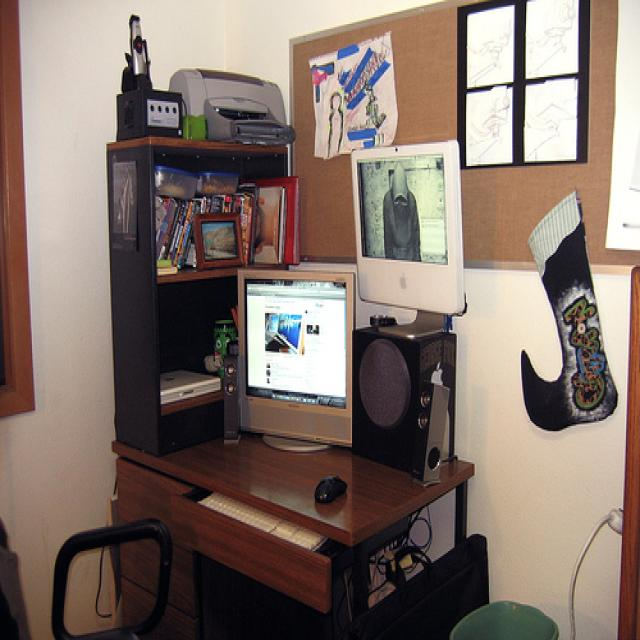tvmonitor: (351, 140, 466, 342), (236, 268, 357, 453)
